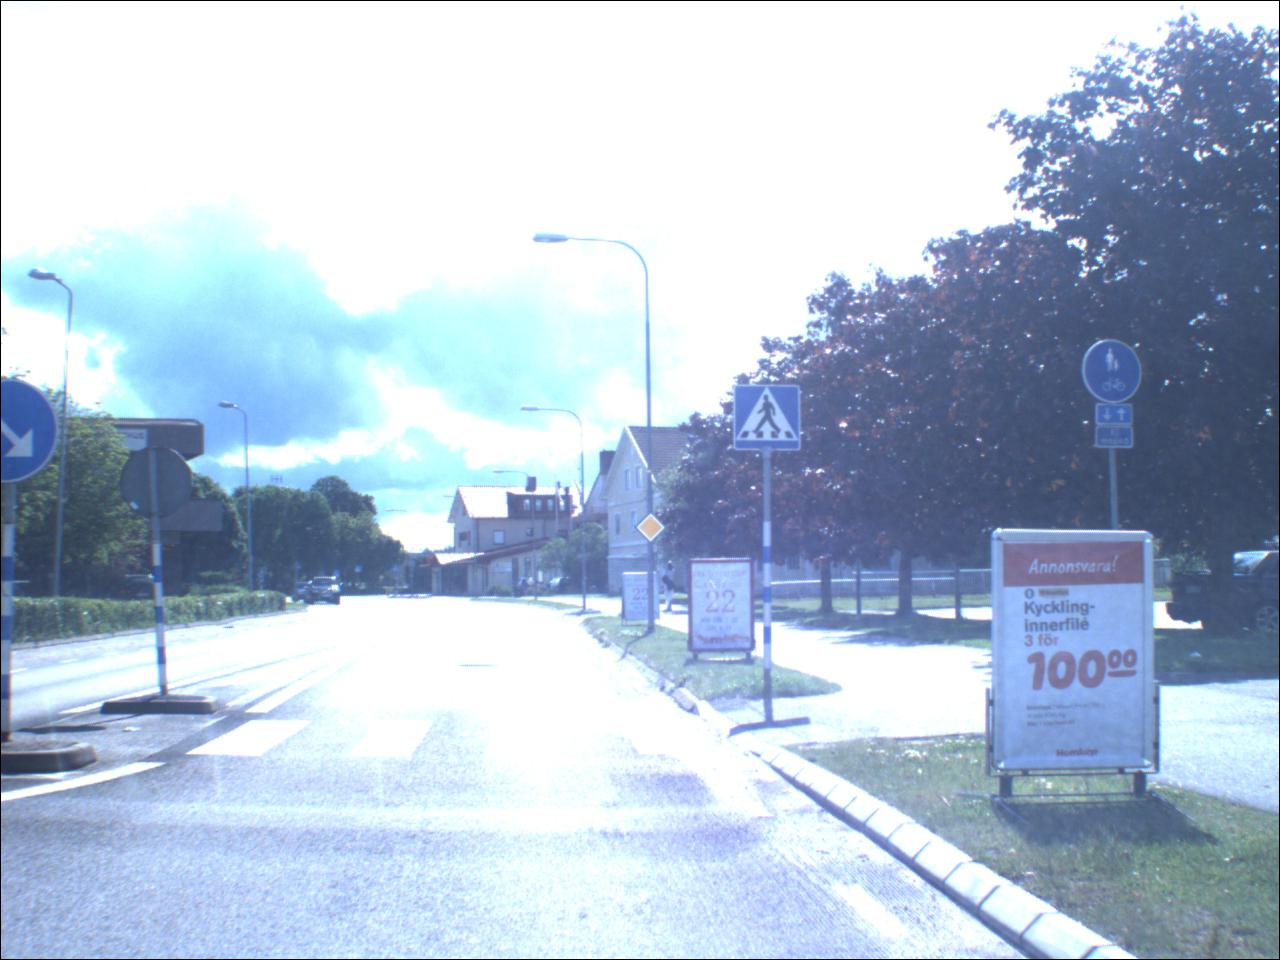PASS_RIGHT_SIDE: (2, 381, 65, 489)
PEDESTRIAN_CROSSING: (738, 389, 805, 452)
PRIORITY_ROAD: (638, 516, 668, 545)
